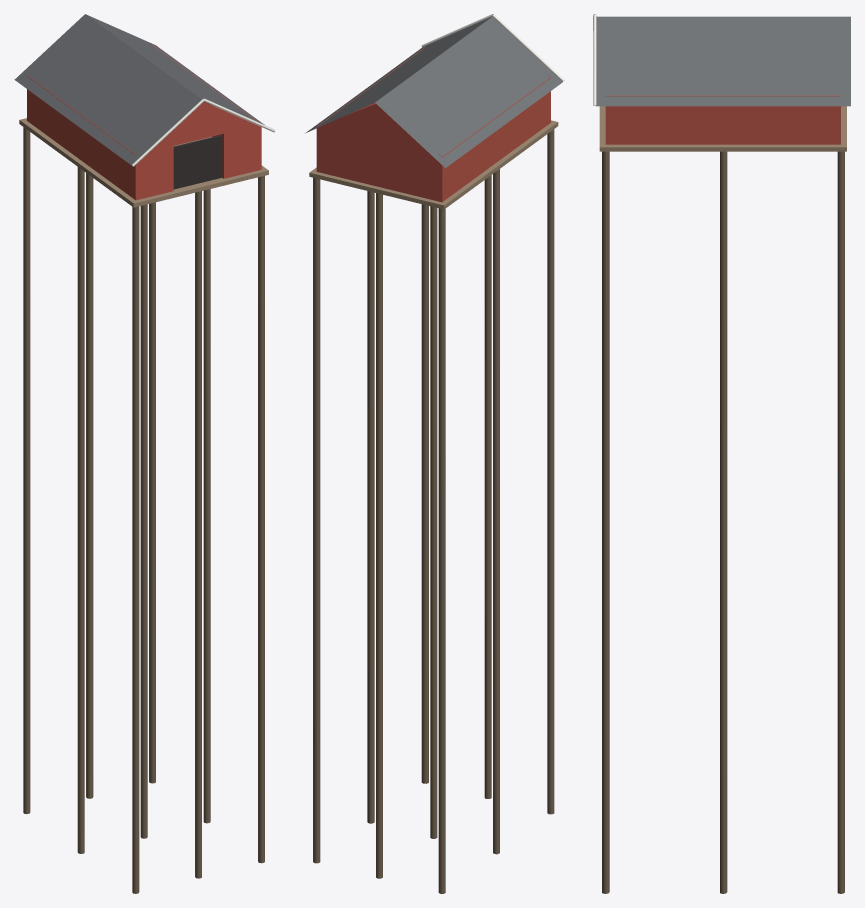
The model's file is boathouse.glb.
3 views of the same model, side by side, from view 1: azimuth 30°, elevation 25°; view 2: azimuth 150°, elevation 25°; view 3: azimuth 270°, elevation 25° (orthographic). The views are drawn at different scales.
Parts seen in each view (by area): view 1: boathouse; view 2: boathouse; view 3: boathouse.
Boxes of the visible parts, bbox=[...] form: boathouse: bbox=[14, 14, 275, 893]; boathouse: bbox=[305, 14, 564, 893]; boathouse: bbox=[593, 14, 850, 893].
Size of the model in its own units: 9.09 by 47.52 by 13.14.
